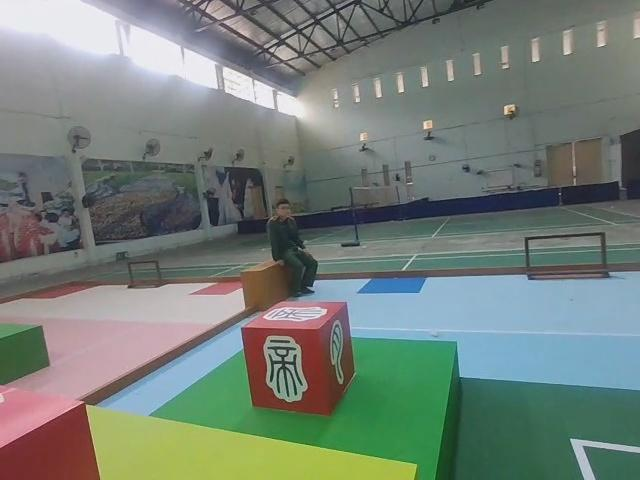R2 Fake: (238, 299, 356, 418)
